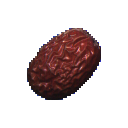gd: (19, 20, 119, 108)
